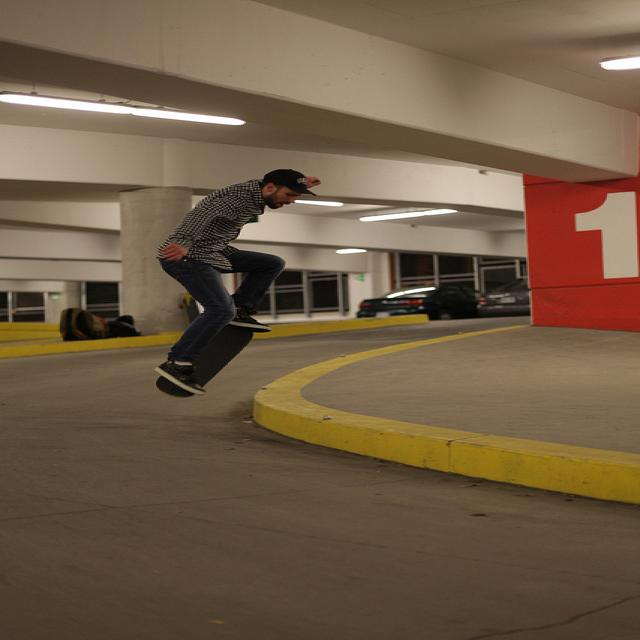Vehicle: (355, 286, 489, 323), (478, 276, 530, 315)
